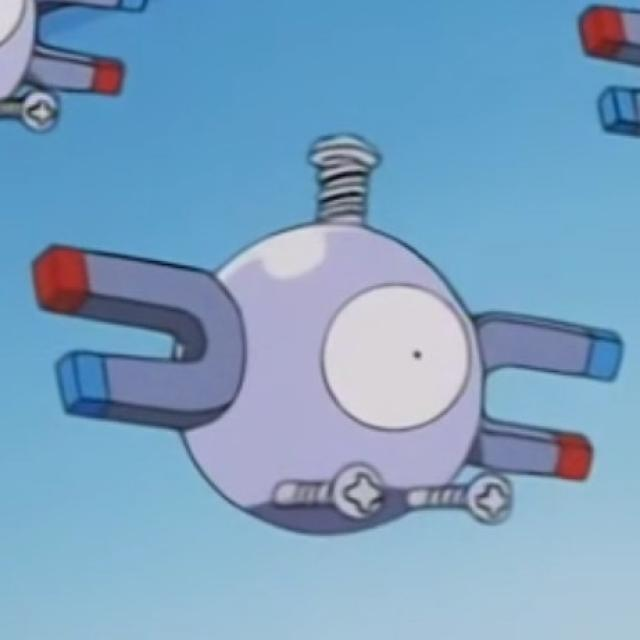Magnemite: (48, 139, 622, 535)
